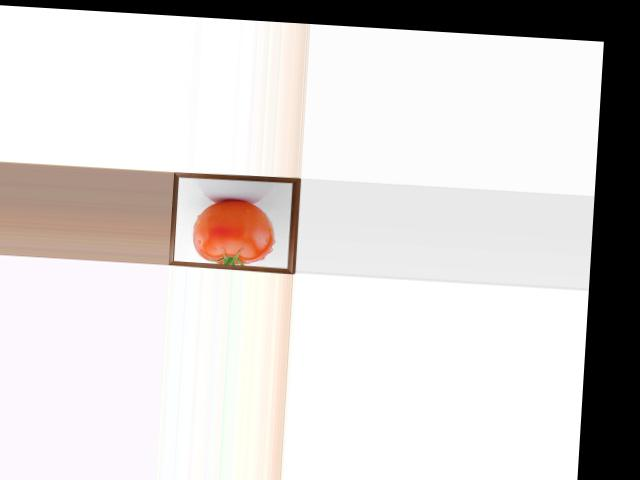tomato: (191, 197, 276, 267)
